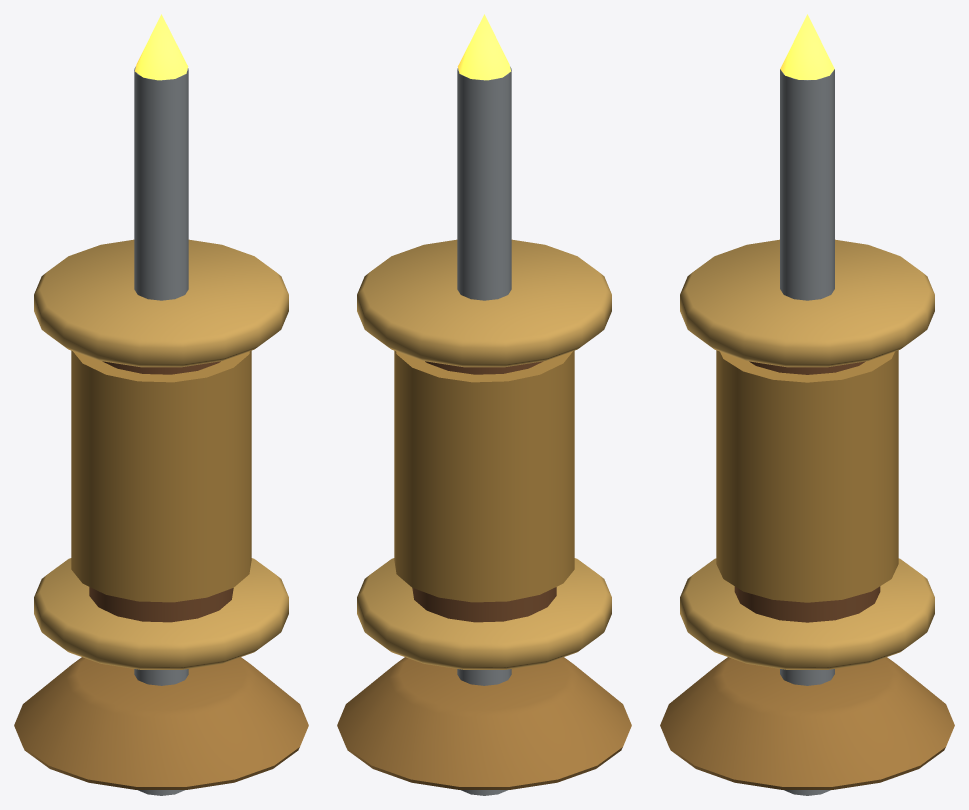
The model's file is part_spindle.glb.
3 renders of one model, left to right at view 1: azimuth 30°, elevation 25°; view 2: azimuth 150°, elevation 25°; view 3: azimuth 270°, elevation 25°, orthographic.
Visible parts, largest first — view 1: part_spindle; view 2: part_spindle; view 3: part_spindle.
Part boxes in pixels (x1,y1,x2,y2): part_spindle: [14, 14, 308, 795]; part_spindle: [337, 14, 631, 795]; part_spindle: [660, 14, 954, 795].
Size of the model in its own units: 0.0957 by 0.28 by 0.0972.
